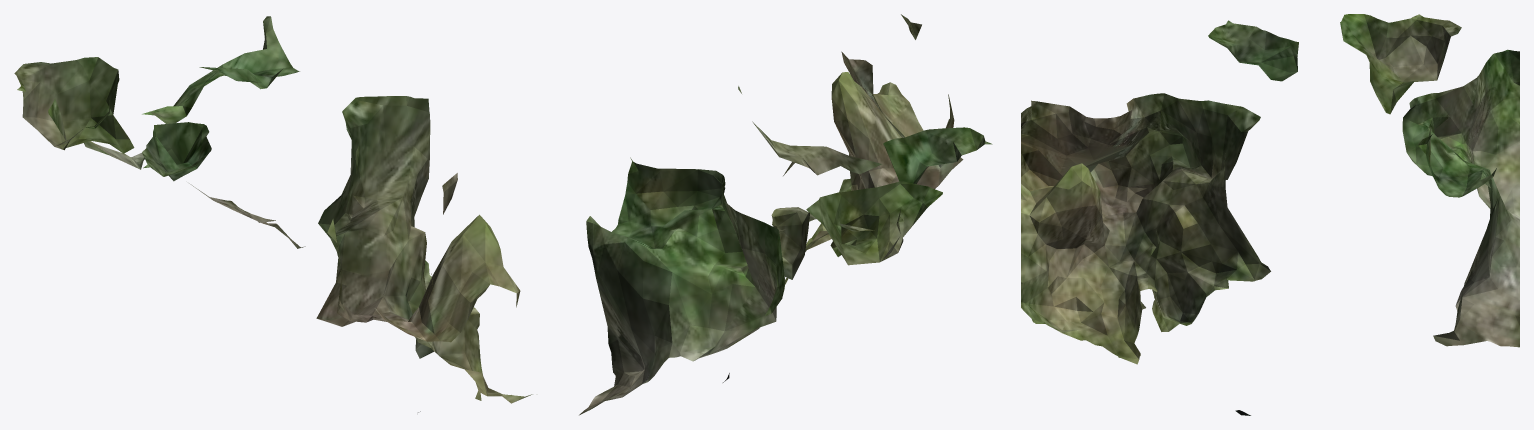
The picture shows the model from 3 angles, left to right: view 1: azimuth 30°, elevation 25°; view 2: azimuth 150°, elevation 25°; view 3: azimuth 270°, elevation 25°; orthographic projection. The views are drawn at different scales.
Size of the model in its own units: 1.75 by 1.8 by 2.95.
2 materials, 2 textured.
